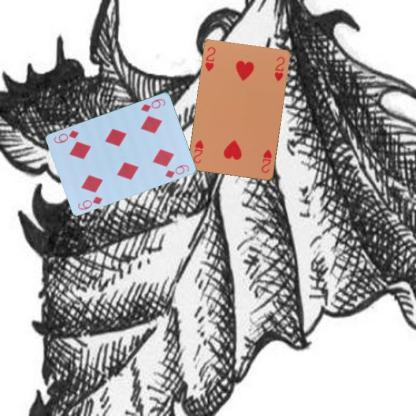2h: (203, 44, 217, 73), (259, 146, 273, 174)
6d: (139, 96, 168, 113), (75, 194, 104, 210)
